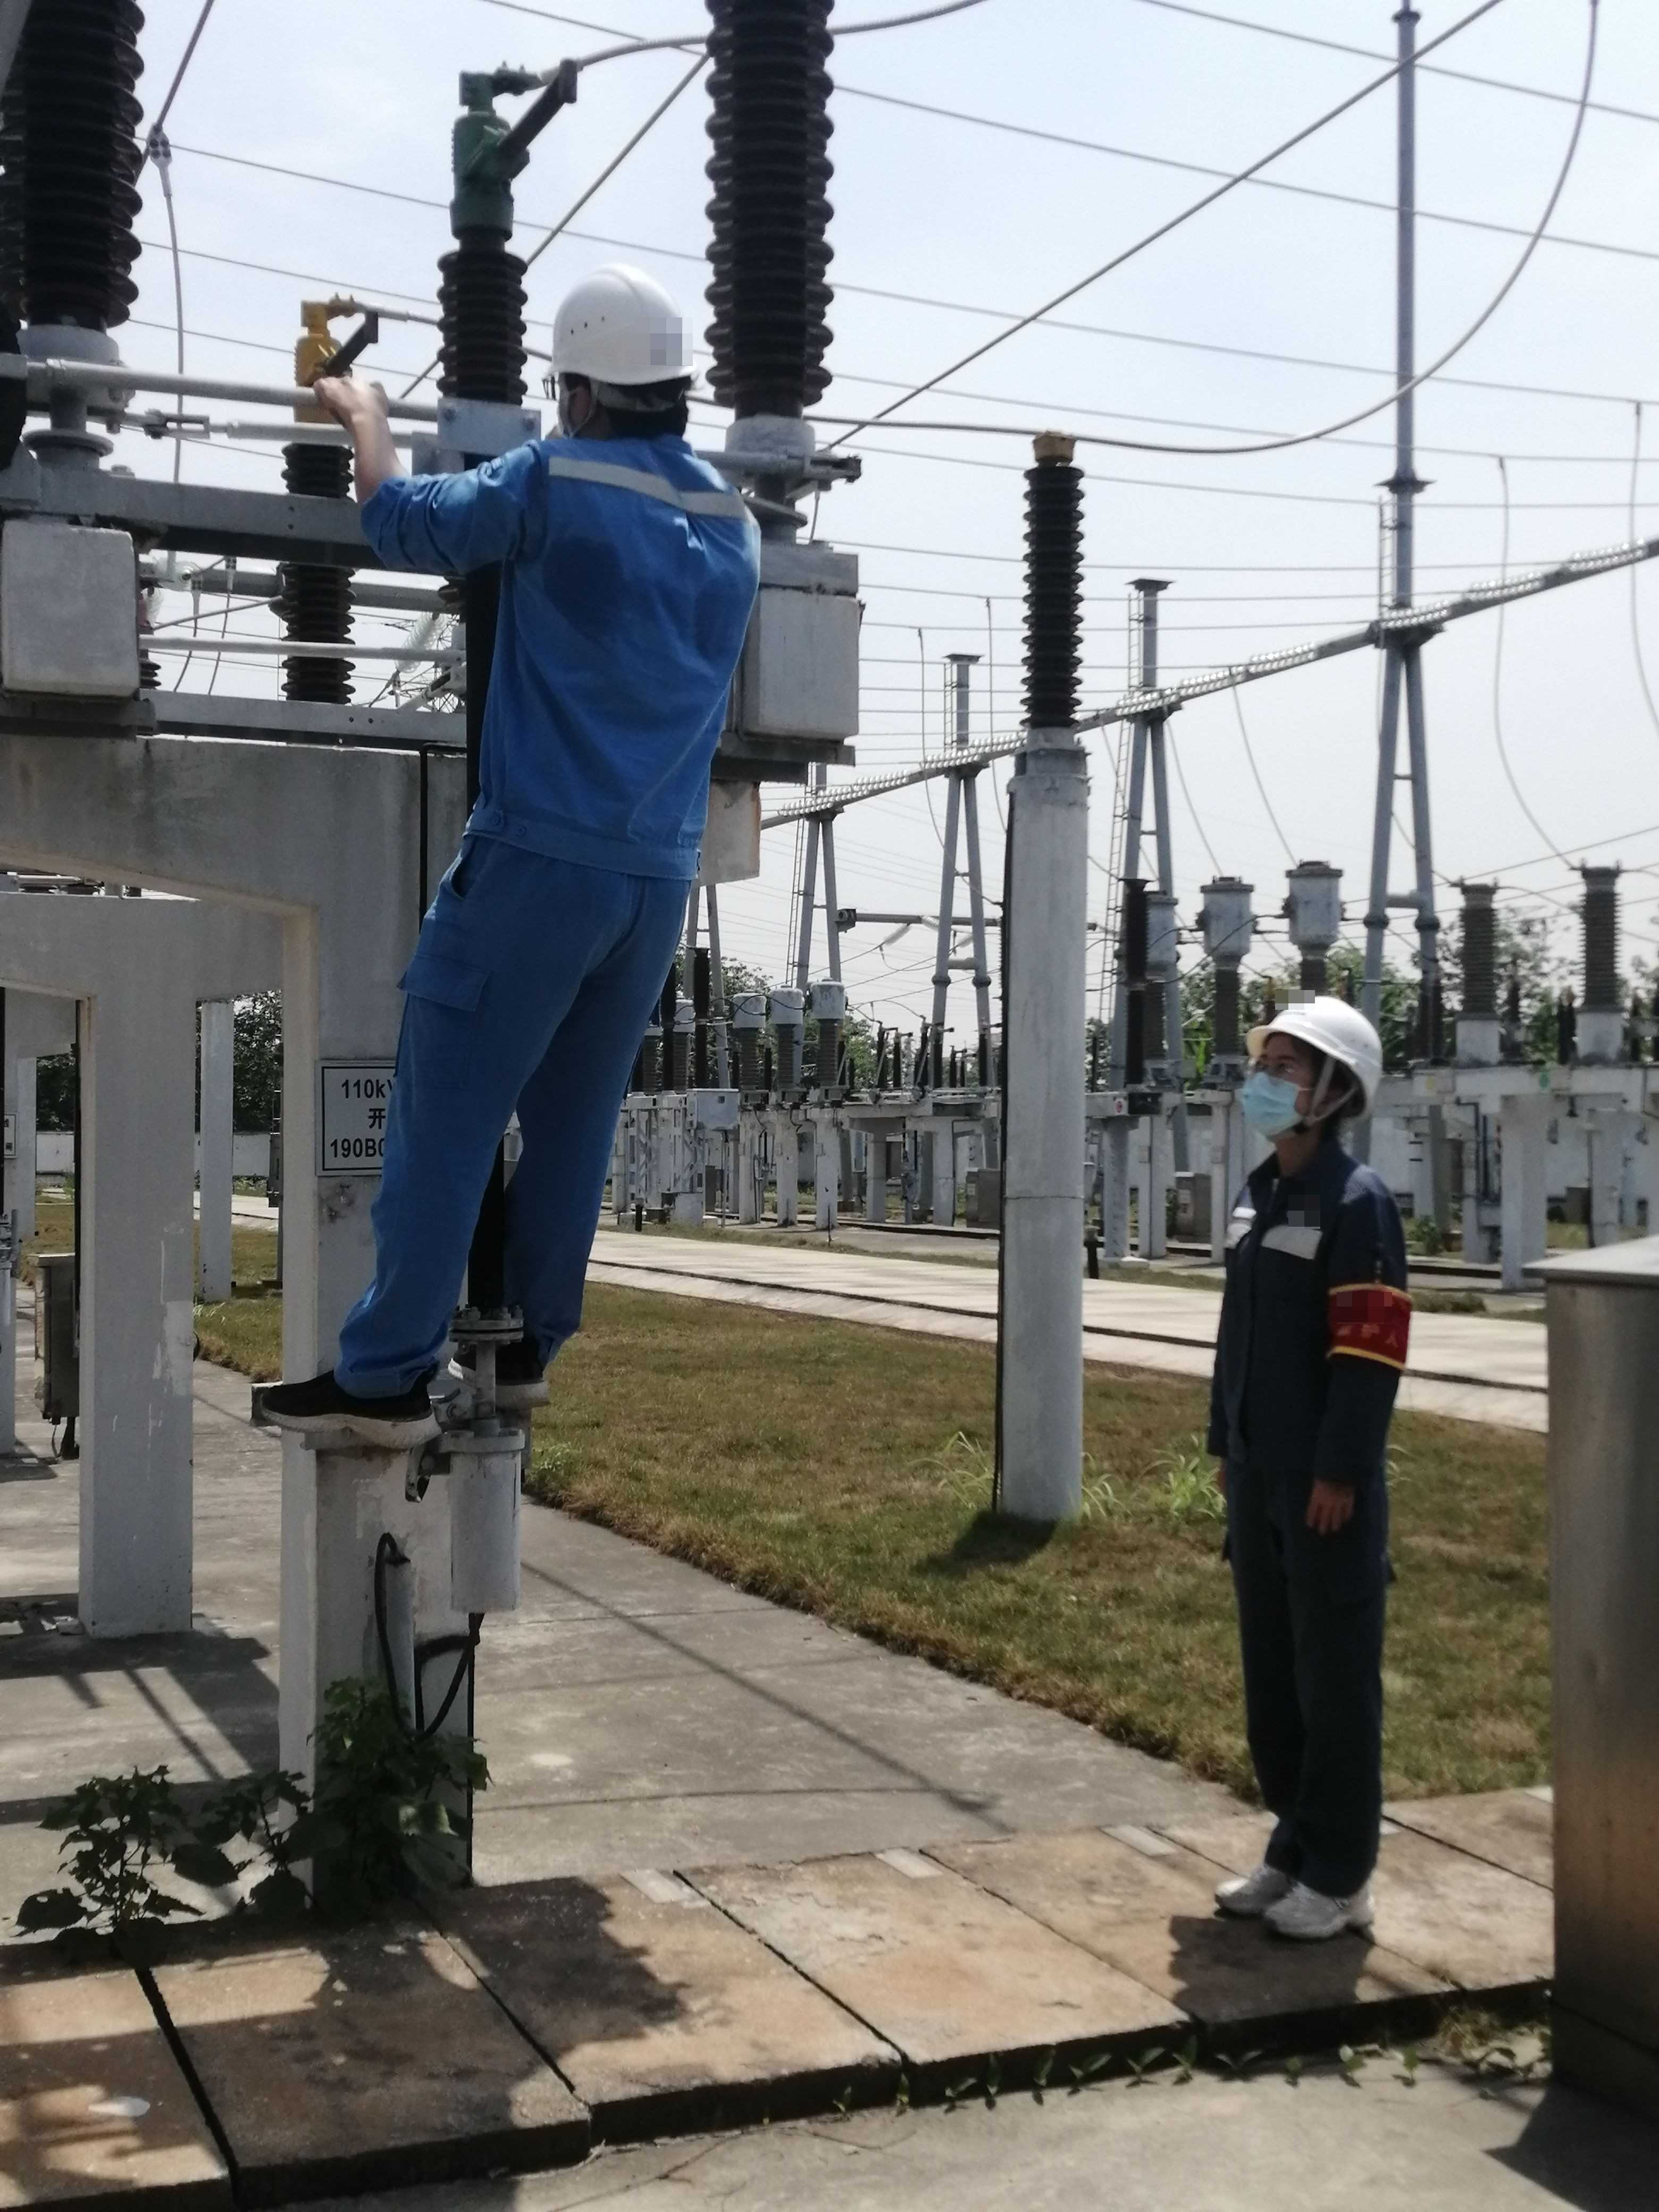downsuit: (349, 900, 692, 1379), (1227, 1489, 1391, 1888)
upsuit: (389, 432, 765, 867), (1213, 1162, 1405, 1503)
wrongtop: (312, 368, 441, 528)
